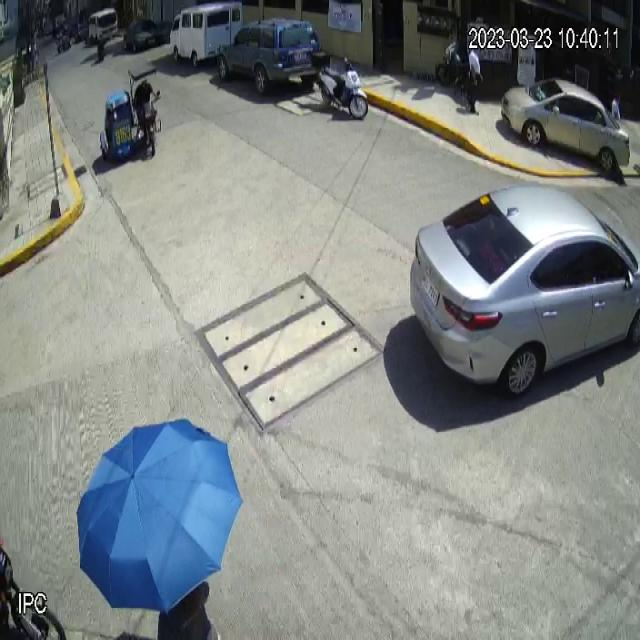Car: (410, 184, 640, 400), (500, 77, 631, 173), (217, 17, 323, 89)
Motorcycle: (310, 48, 368, 122)
Tricycle: (100, 61, 162, 162)
Van: (170, 0, 243, 70)
